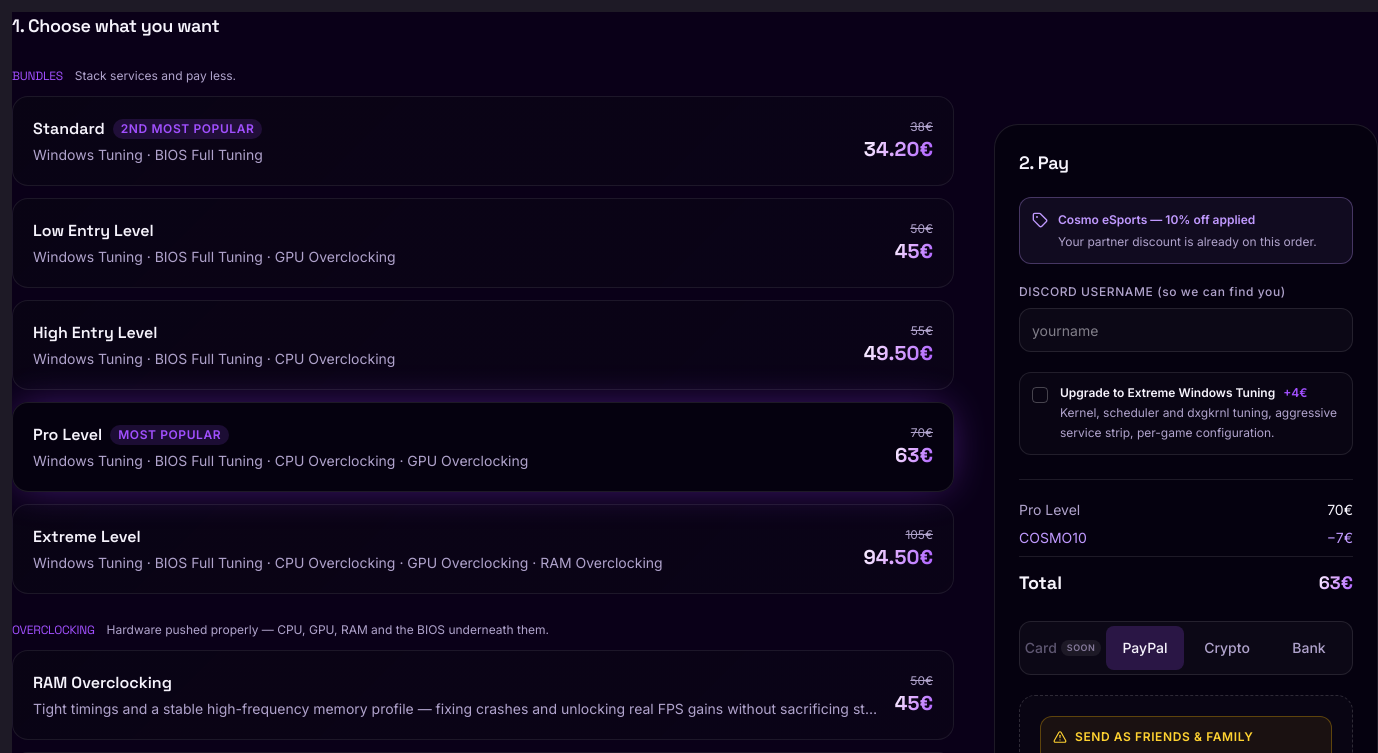
CheckoutClient (manual PayPal path) › switches to bank transfer and drops the Friends & Family notice
The image size is (1378, 753).
Step 1. Click the tab "Bank" → (1309, 648), box [1270,626,1348,670]
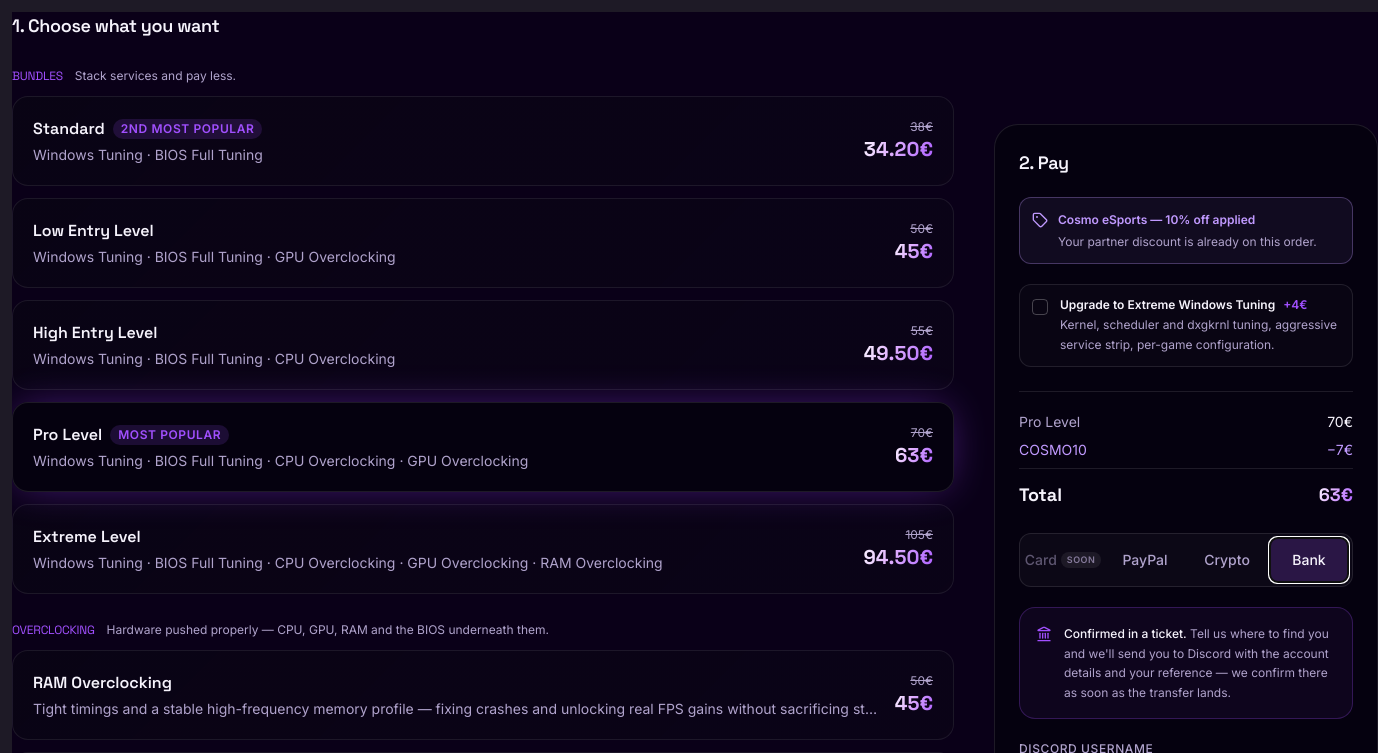
Expected: the text "Confirmed in a ticket." is shown, [1064,626,1187,641]
Expected: the text "Send as Friends & Family" is gone
